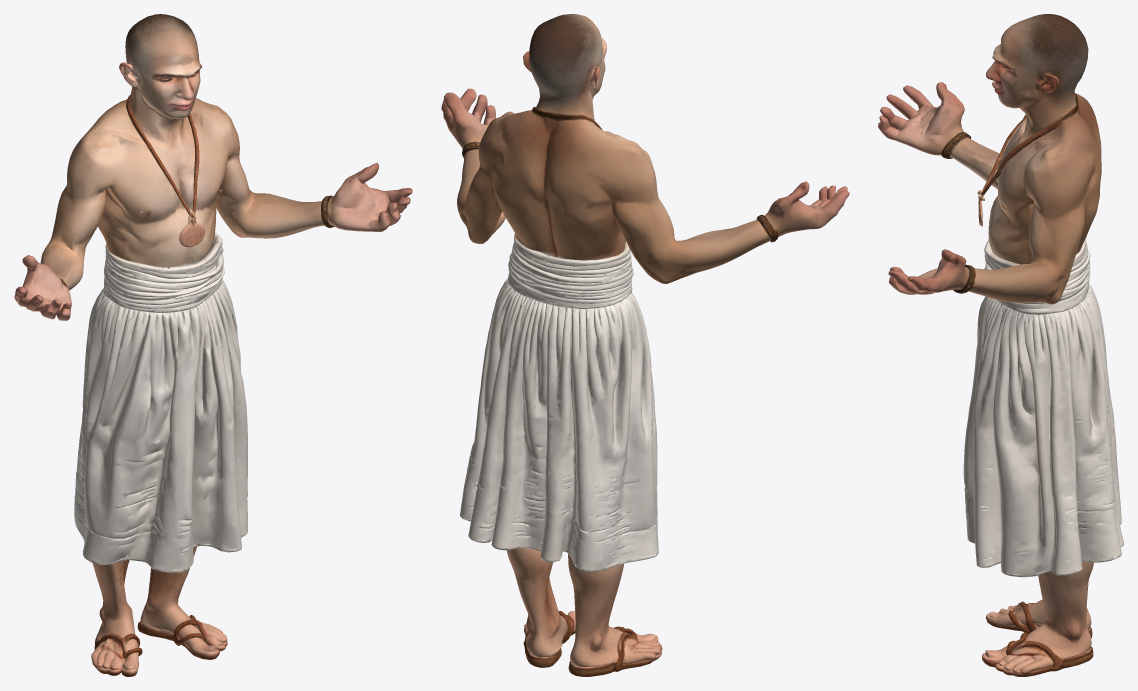
File: crowd_priest_minor_rodin_source.glb
The picture shows the model from 3 angles, left to right: view 1: azimuth 30°, elevation 25°; view 2: azimuth 150°, elevation 25°; view 3: azimuth 270°, elevation 25°; orthographic projection.
Visible parts, largest first — view 1: model; view 2: model; view 3: model.
Part boxes in pixels (x1,y1,x2,y2): model: (14, 14, 412, 676); model: (441, 14, 849, 676); model: (878, 14, 1123, 676).
Size of the model in its own units: 1.25 by 1.9 by 0.664.
1 material, 1 textured.
